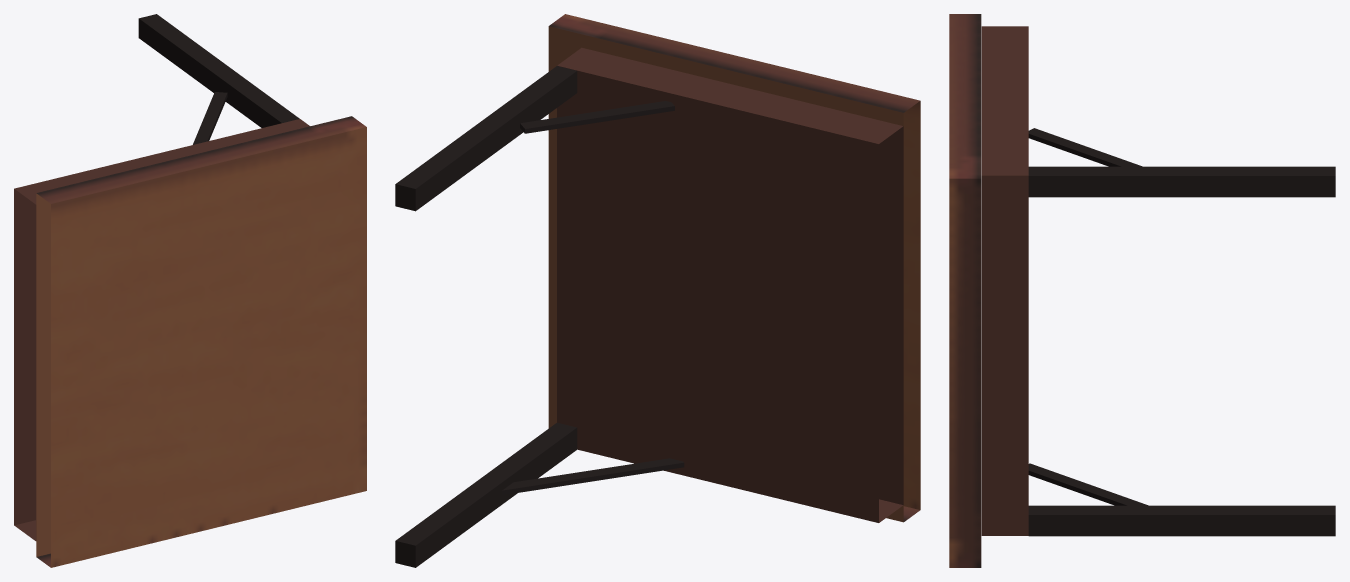
File: section-2.obj
The picture shows the model from 3 angles, left to right: view 1: azimuth 30°, elevation 25°; view 2: azimuth 150°, elevation 25°; view 3: azimuth 270°, elevation 25°; orthographic projection. The views are drawn at different scales.
Bounding box in the file's own units: 0.8149 × 0.8976 × 0.8068.
1 material, 1 textured.
